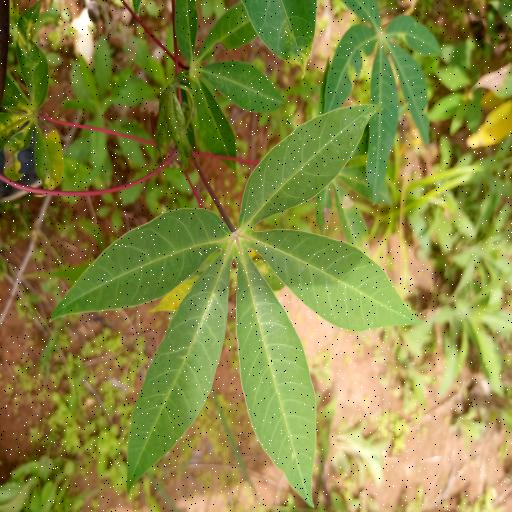Cassava_Healthy: (58, 106, 414, 492)
